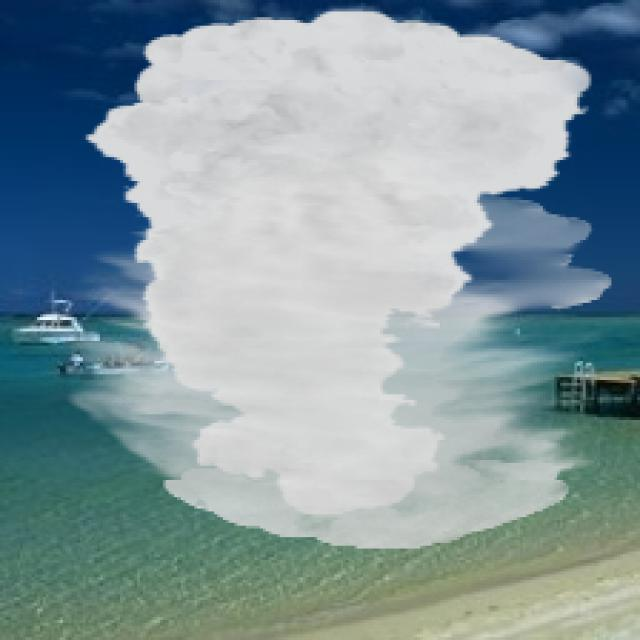smoke: (63, 9, 611, 548)
